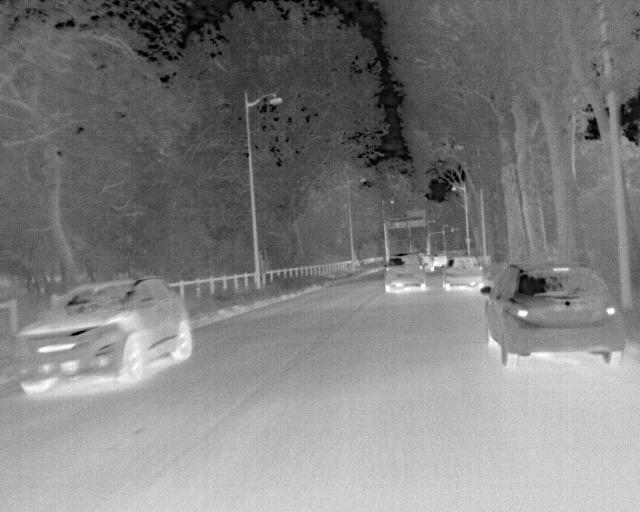car: (15, 275, 193, 396), (480, 261, 626, 368), (384, 253, 429, 291), (441, 255, 480, 291), (418, 254, 434, 272), (433, 253, 447, 268)
light: (451, 227, 453, 232), (442, 230, 444, 235)
sign: (388, 209, 426, 228), (465, 238, 470, 243)
